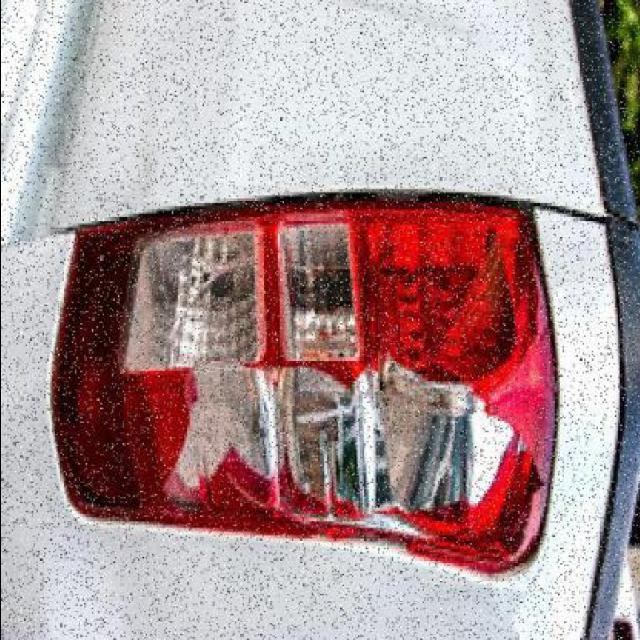Taillight-Damage: (53, 136, 577, 563)
